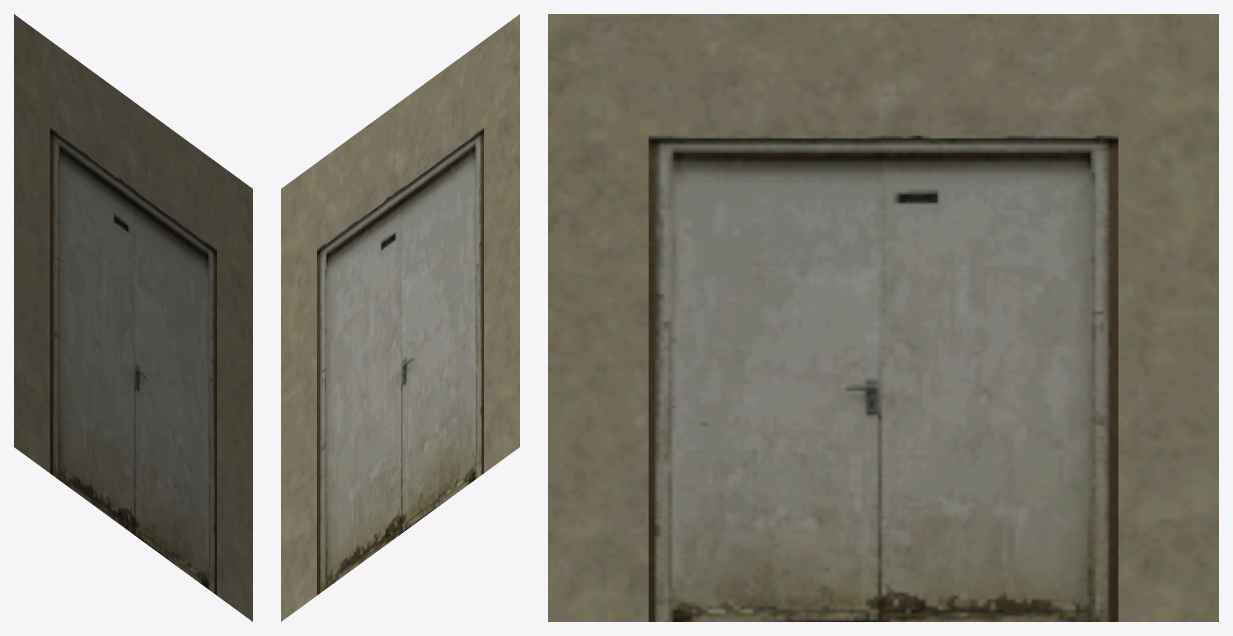
File: Urban_StucoWallOldDoor_Model.fbx
The picture shows the model from 3 angles, left to right: view 1: azimuth 30°, elevation 25°; view 2: azimuth 150°, elevation 25°; view 3: azimuth 270°, elevation 25°; orthographic projection. The views are drawn at different scales.
Visible parts, largest first — view 1: Urban_StucoWallOldDoor_Mesh; view 2: Urban_StucoWallOldDoor_Mesh; view 3: Urban_StucoWallOldDoor_Mesh.
Part boxes in pixels (left/top/right/bottom): Urban_StucoWallOldDoor_Mesh: left=14, top=14, right=252, bottom=621; Urban_StucoWallOldDoor_Mesh: left=281, top=14, right=519, bottom=621; Urban_StucoWallOldDoor_Mesh: left=548, top=14, right=1218, bottom=621.
Bounding box in the file's own units: 0 × 2.1 × 2.1.
